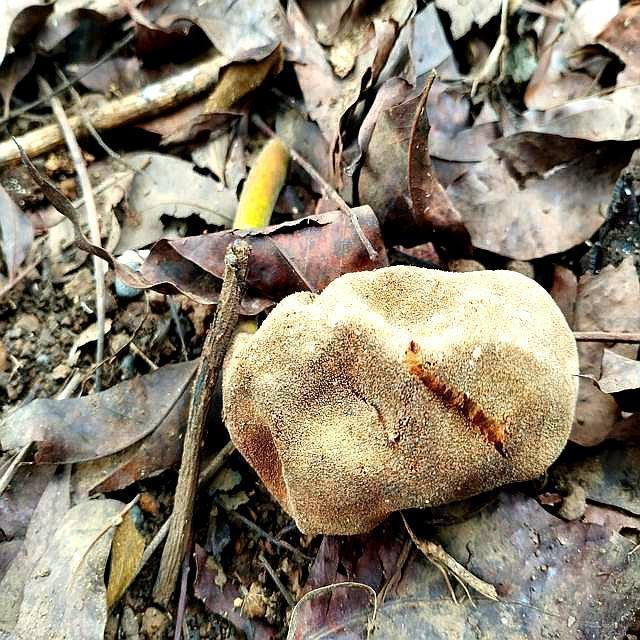Biodegradable: (215, 263, 595, 535)
